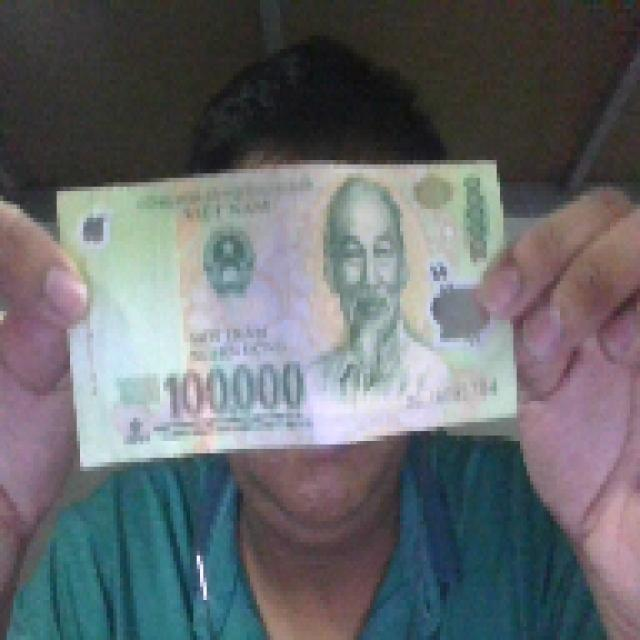100 000 VND: (50, 151, 523, 471)
